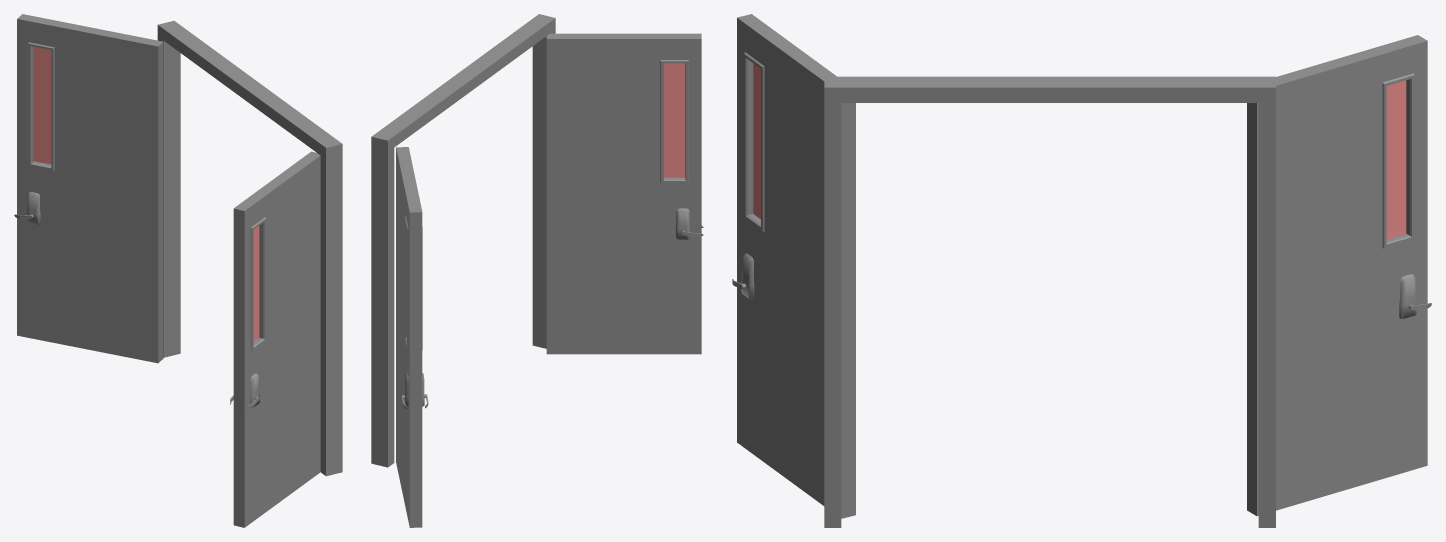
Rendered from sm_doorsopen_01.FBX.
The picture shows the model from 3 angles, left to right: view 1: azimuth 30°, elevation 25°; view 2: azimuth 150°, elevation 25°; view 3: azimuth 270°, elevation 25°; orthographic projection. The views are drawn at different scales.
Parts seen in each view (by area): view 1: door_LOD0; view 2: door_LOD0; view 3: door_LOD0.
Part boxes in pixels (left/top/right/bottom): door_LOD0: left=14, top=14, right=342, bottom=527; door_LOD0: left=371, top=14, right=703, bottom=527; door_LOD0: left=732, top=14, right=1431, bottom=527.
Size of what is drawn, in the model's own units: 126 by 284 by 409.
